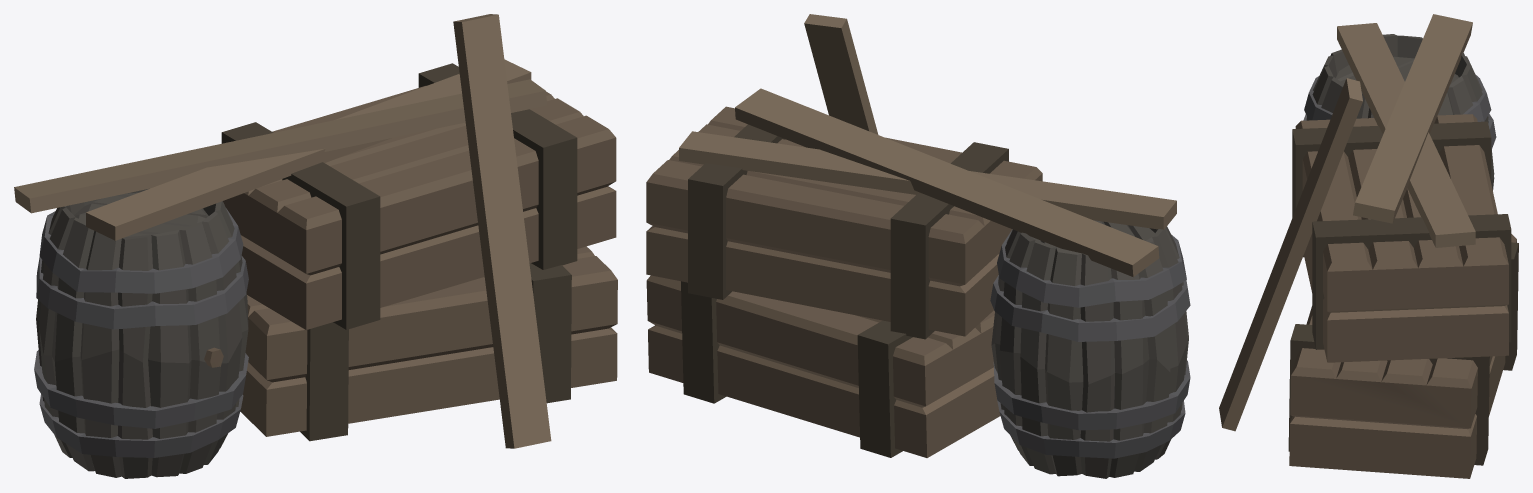
File: SM_Prop_Stack_01.glb
3 renders of one model, left to right at view 1: azimuth 30°, elevation 25°; view 2: azimuth 150°, elevation 25°; view 3: azimuth 270°, elevation 25°, orthographic. The views are drawn at different scales.
Visible parts, largest first — view 1: SM_Prop_Stack_01; view 2: SM_Prop_Stack_01; view 3: SM_Prop_Stack_01.
Part boxes in pixels (x1,y1,x2,y2): SM_Prop_Stack_01: (14,14,617,478); SM_Prop_Stack_01: (646,14,1190,478); SM_Prop_Stack_01: (1219,14,1518,478).
Size of the model in its own units: 0.0165 by 0.0112 by 0.0088.
